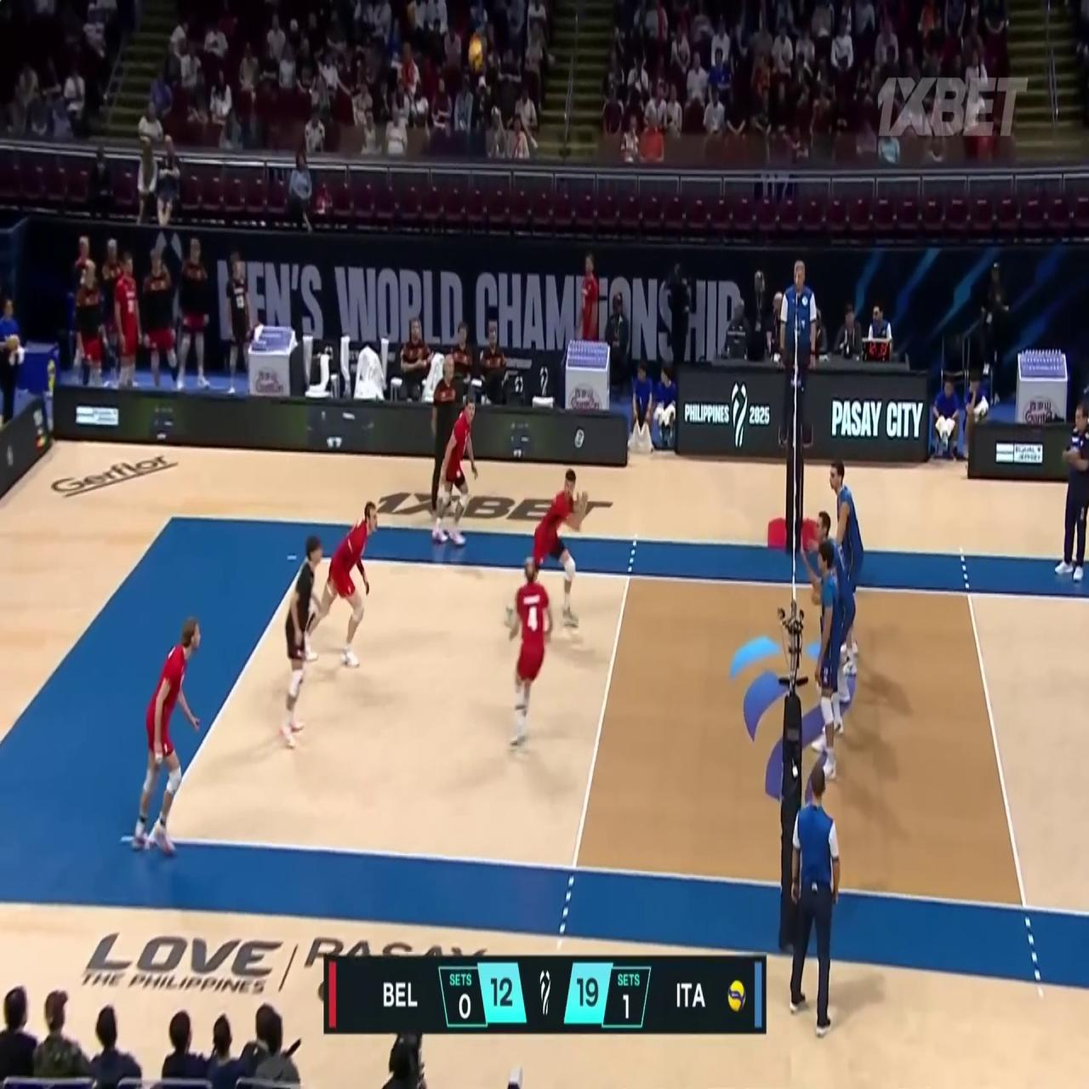ball: (469, 37, 483, 71)
